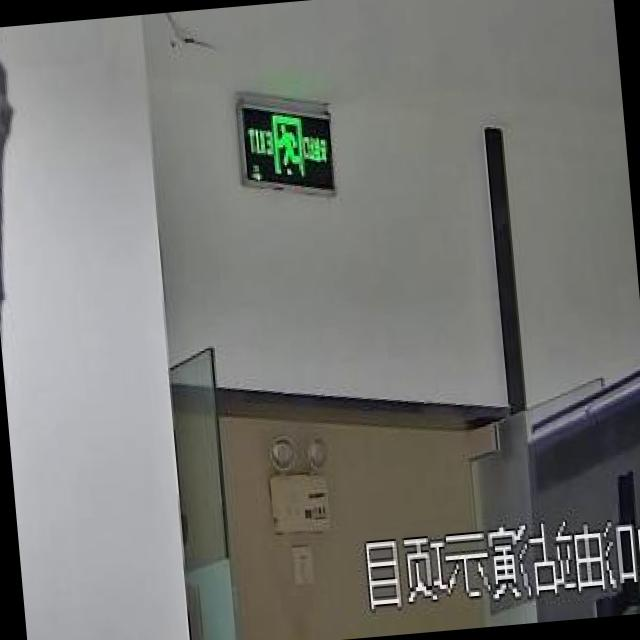Guns: (0, 25, 65, 620)
